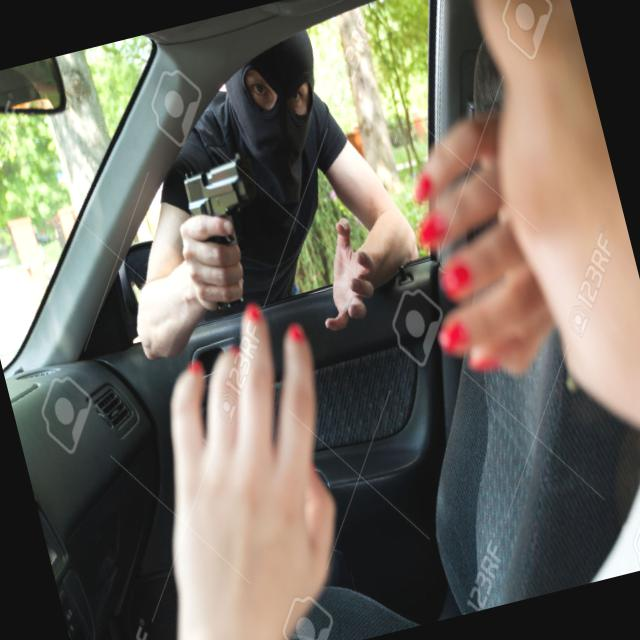handgun: (176, 154, 278, 312)
